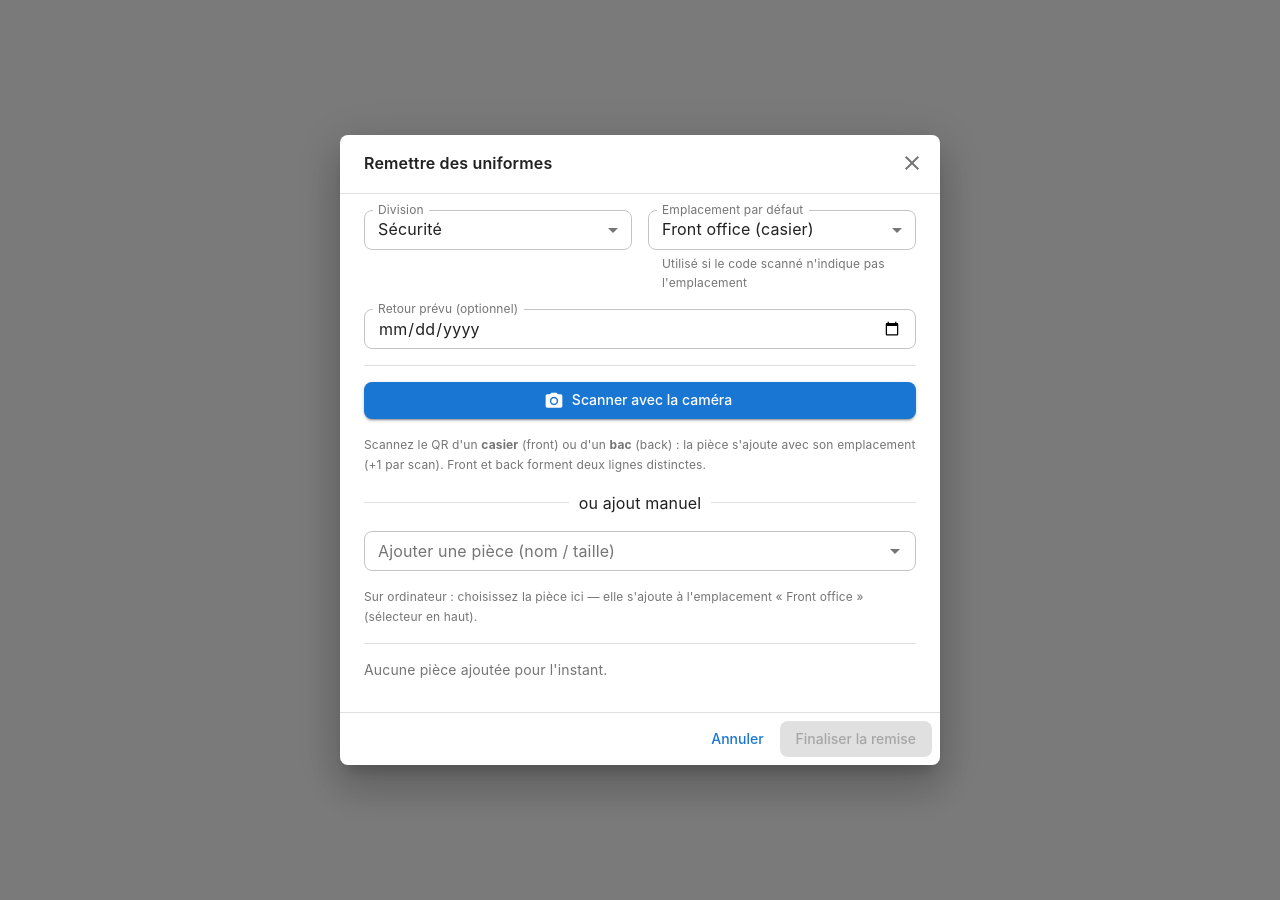
Test: MobileIssuanceSheet › finalise la remise : crée + finalise + recharge, puis passe à l'étape signature
The image size is (1280, 900).
Click the dropdown labelled "Ajouter une pièce (nom / taille)" at [624, 551], box x1=370 y1=537 x2=877 y2=565
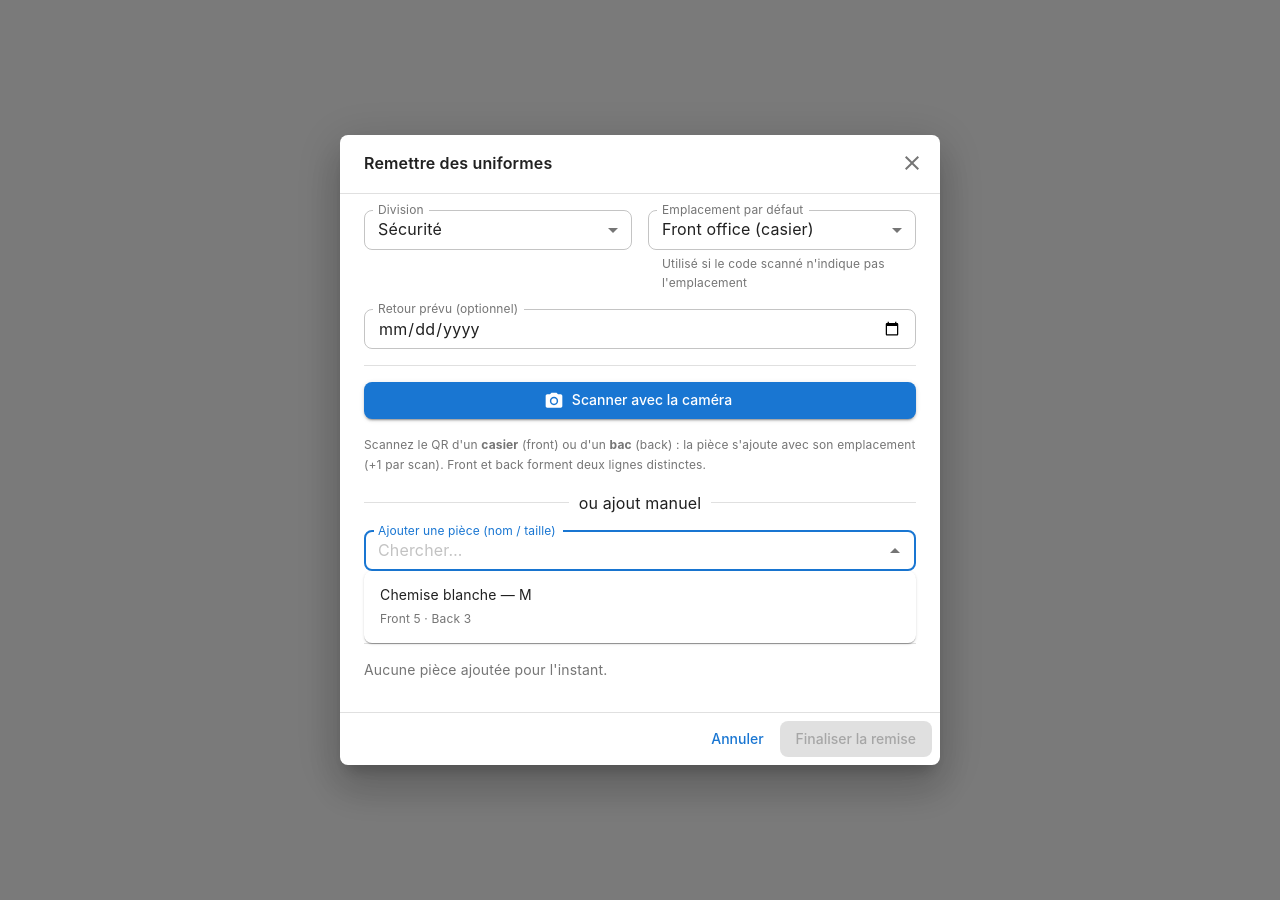
Click the text "Chemise blanche — M" at [456, 595], box x1=380 y1=585 x2=532 y2=605
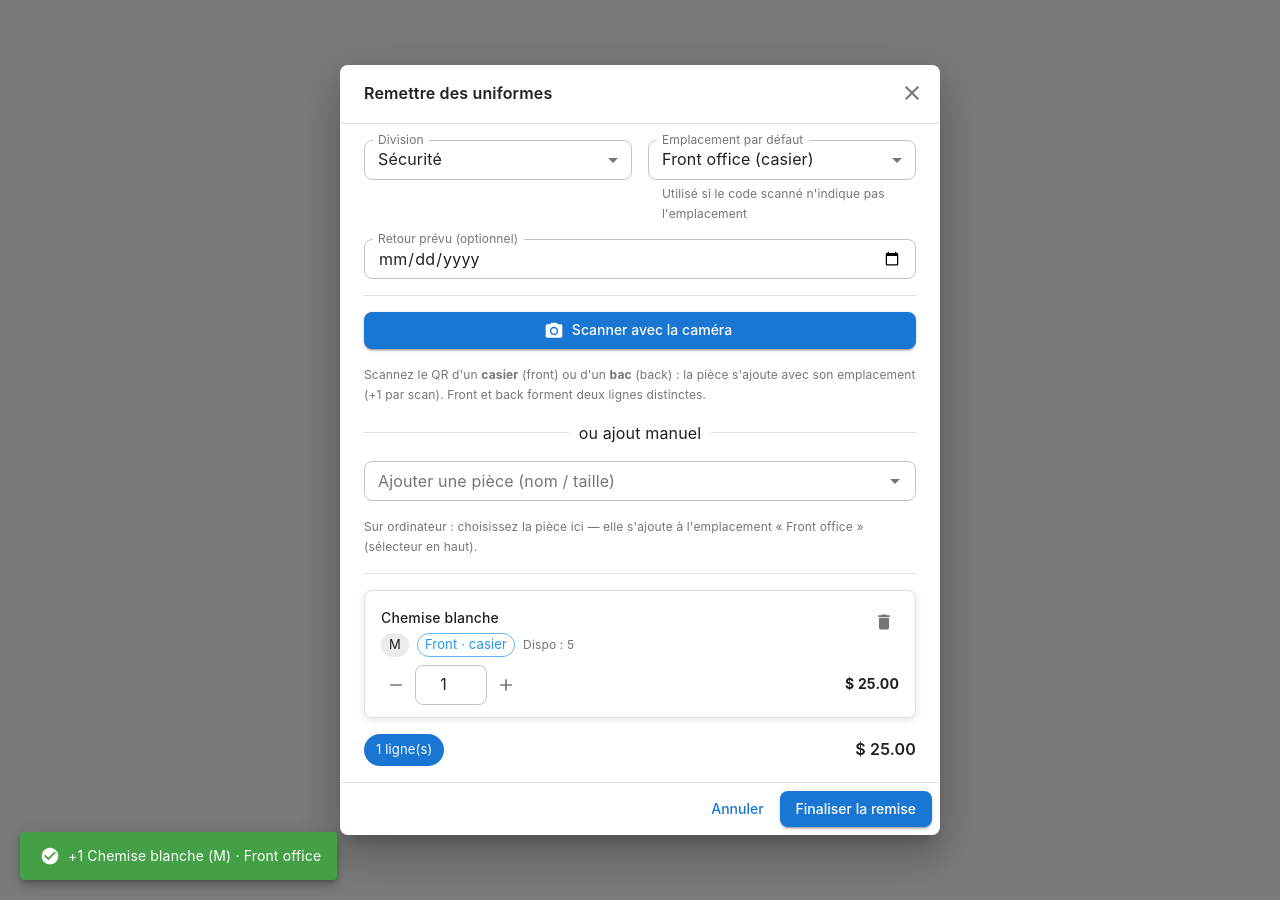
Click the button "Finaliser la remise" at [856, 809], box x1=780 y1=790 x2=932 y2=827
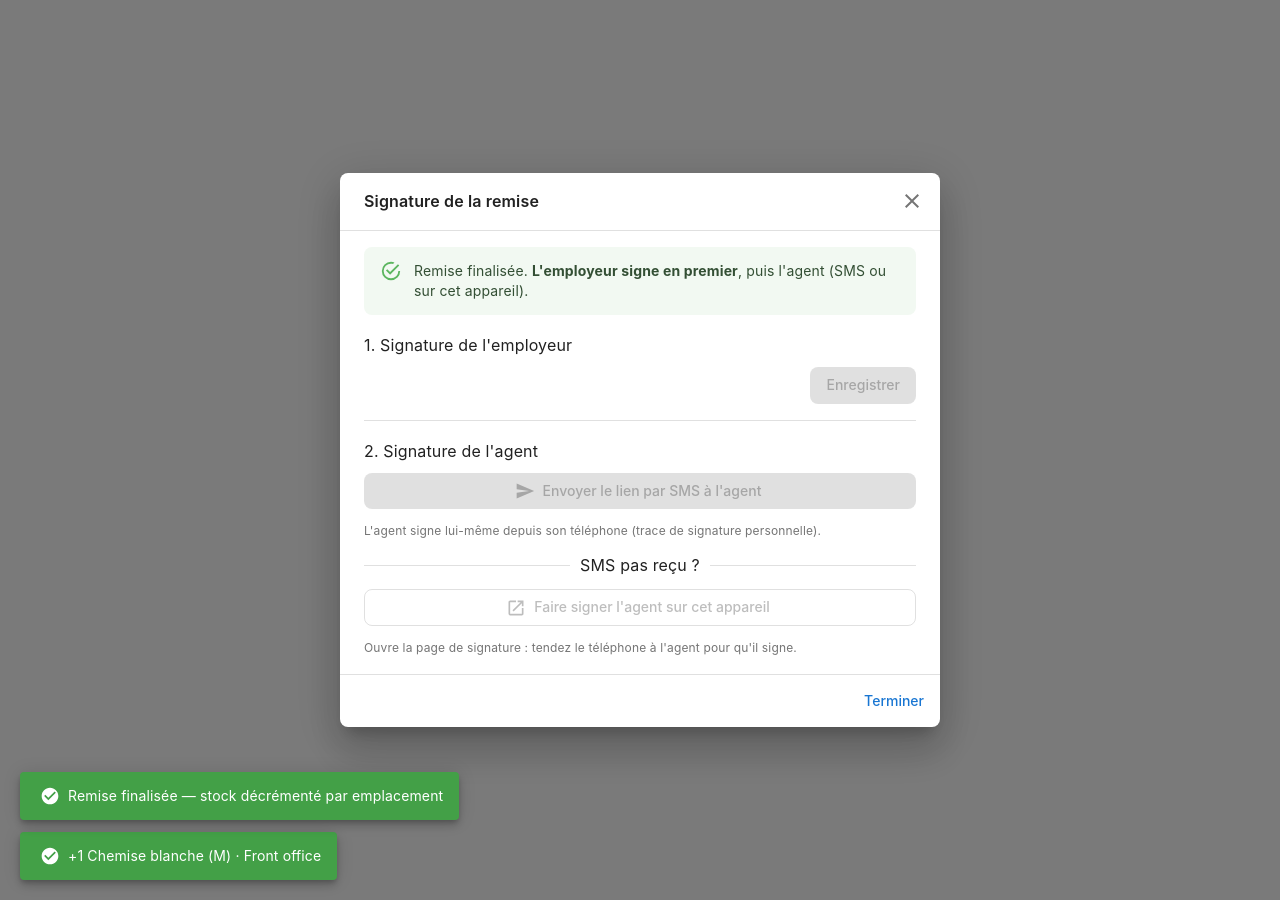
Expected: the heading "Signature de la remise" is shown, x1=340 y1=173 x2=940 y2=230
Expected: the heading "1. Signature de l'employeur" is shown, x1=364 y1=335 x2=572 y2=355
